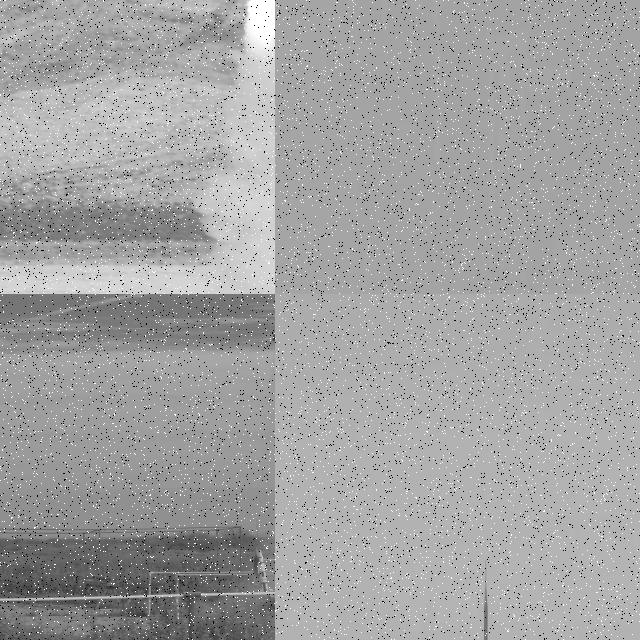Rocket: (258, 550, 275, 594), (481, 586, 490, 640), (272, 303, 275, 343), (368, 240, 370, 249)
